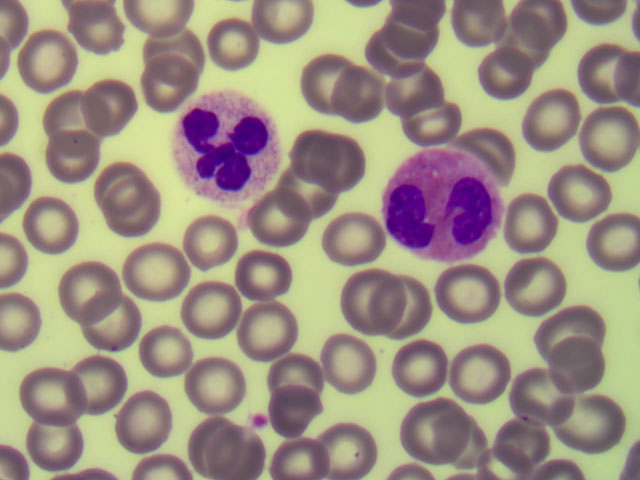Platelets: (250, 414, 271, 426)
RBC: (314, 412, 377, 480), (188, 412, 251, 480), (14, 27, 77, 94), (33, 75, 96, 142), (73, 68, 136, 135), (39, 127, 102, 194), (79, 130, 142, 197), (110, 174, 173, 241), (22, 192, 85, 259), (56, 254, 119, 321), (81, 296, 144, 363), (130, 237, 193, 304), (177, 206, 240, 273), (238, 187, 301, 254), (272, 161, 335, 228), (306, 121, 369, 188), (332, 55, 395, 122), (301, 42, 364, 109), (209, 16, 272, 83), (133, 52, 196, 119), (151, 14, 214, 81), (71, 3, 134, 70), (17, 359, 80, 426), (64, 352, 127, 419), (30, 408, 93, 475), (119, 388, 182, 455), (130, 317, 193, 384), (180, 264, 243, 331), (242, 231, 305, 298), (240, 291, 303, 358), (265, 327, 328, 394), (269, 386, 332, 453), (319, 329, 382, 396), (333, 267, 396, 334), (371, 271, 434, 338), (324, 210, 387, 277), (495, 186, 558, 253), (500, 259, 563, 326), (431, 265, 494, 332), (450, 336, 513, 403), (398, 332, 461, 399), (399, 398, 462, 465), (489, 411, 552, 478), (513, 364, 576, 431), (553, 333, 616, 400), (542, 291, 605, 358), (577, 203, 640, 270), (550, 168, 613, 235), (577, 108, 640, 175), (523, 90, 586, 157), (471, 51, 534, 118), (381, 54, 444, 121), (371, 5, 434, 72), (407, 85, 470, 152), (566, 43, 629, 110), (189, 348, 252, 415), (244, 1, 307, 67)
WBC: (382, 143, 508, 266), (173, 90, 285, 203)
